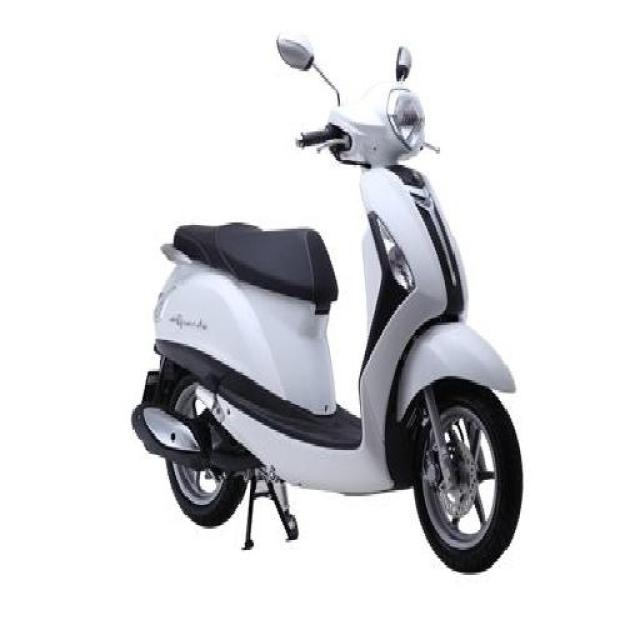All: (128, 74, 525, 576)
Head: (297, 84, 443, 163)
Tail: (154, 207, 212, 274)
